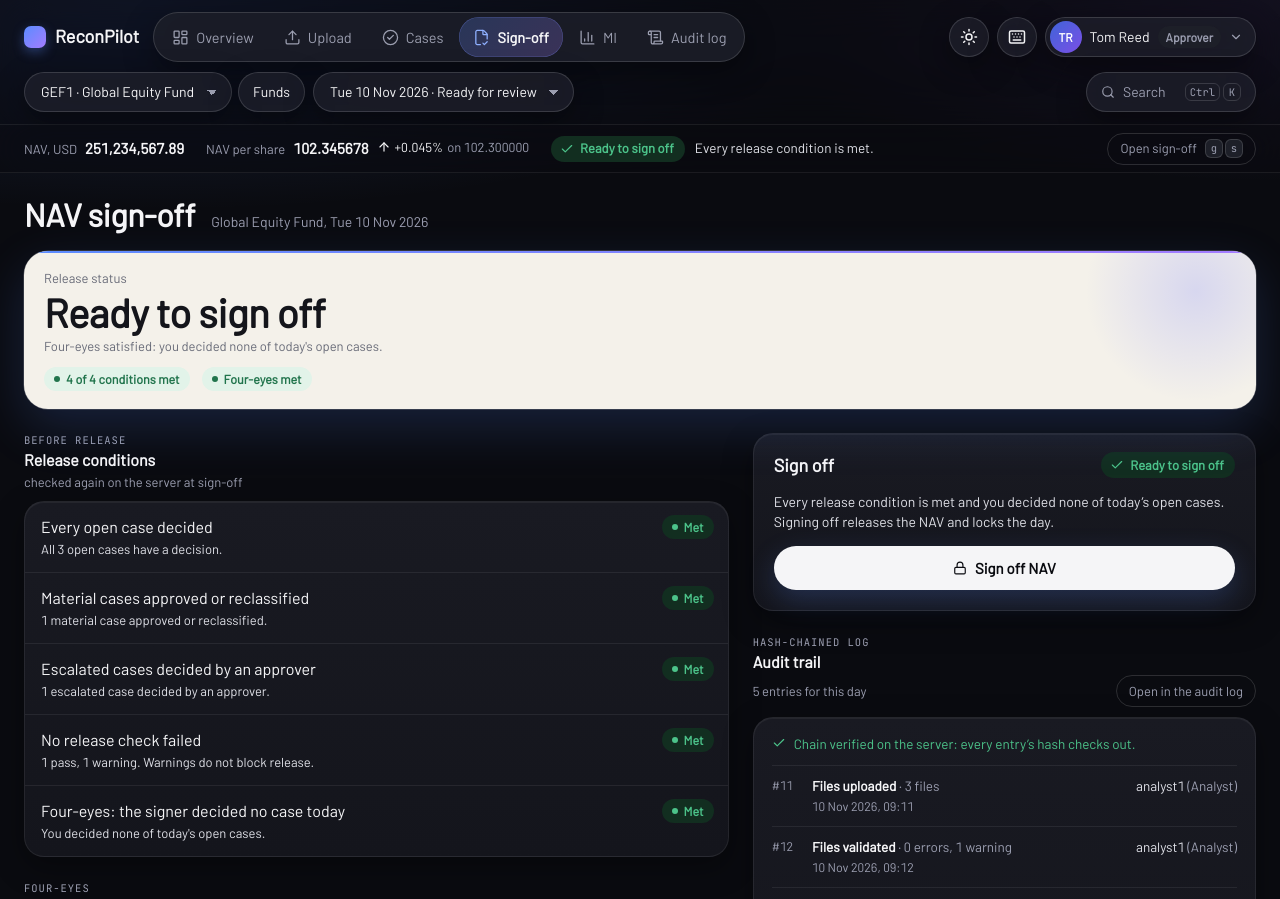
Test: Sign-off screen › shows a refused sign-off in the server's words
Click the button "Sign off NAV" at [1004, 568], box [774,546,1235,590]
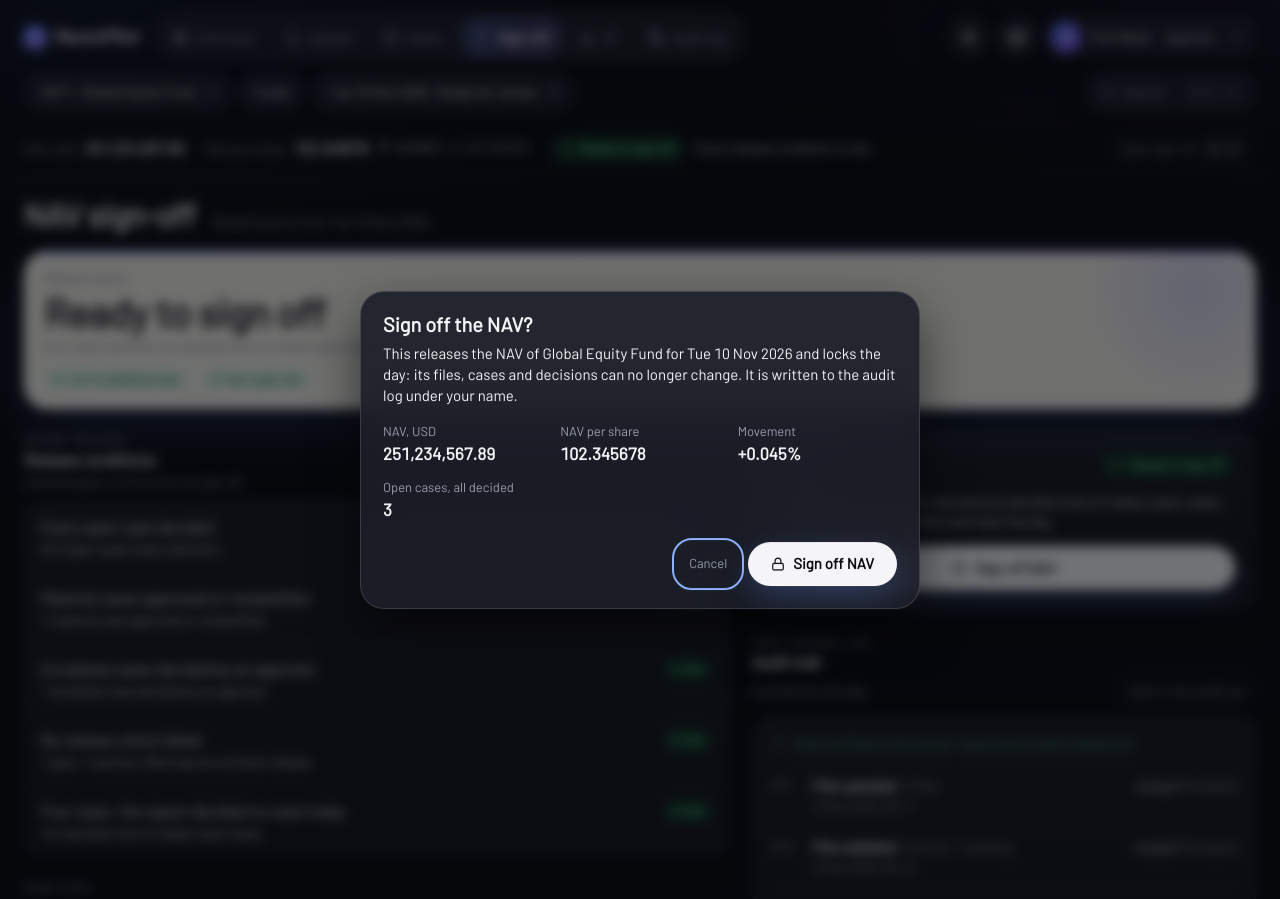
Click the button "Sign off NAV" at [823, 564], box [748,542,897,586]
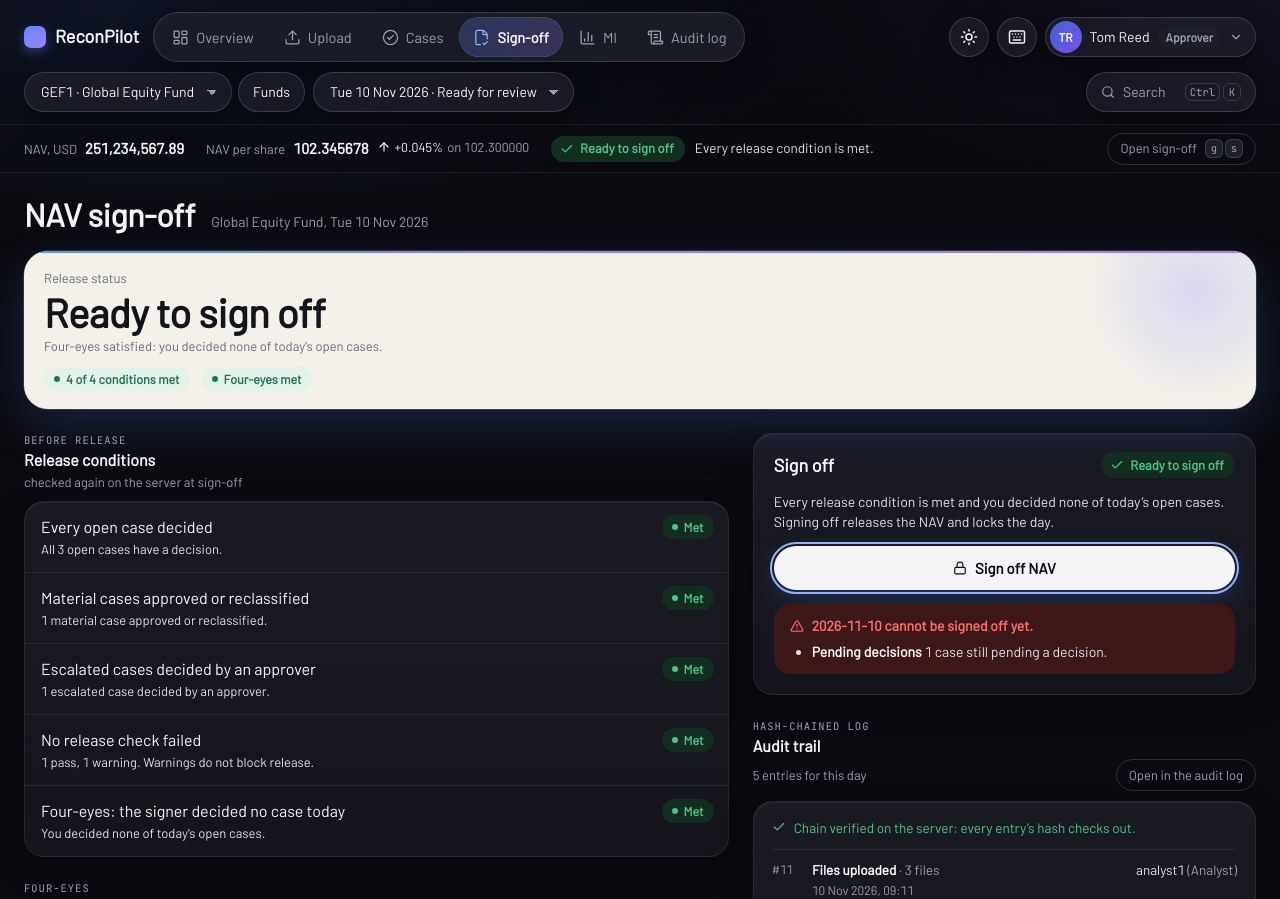
Now the message shows "2026-11-10 cannot be signed off yet.", box [812,617,1033,634]
Now the text "Pending decisions" is shown, box [812,643,922,660]
Now the message shows "1 case still pending a decision.", box [925,643,1107,660]
